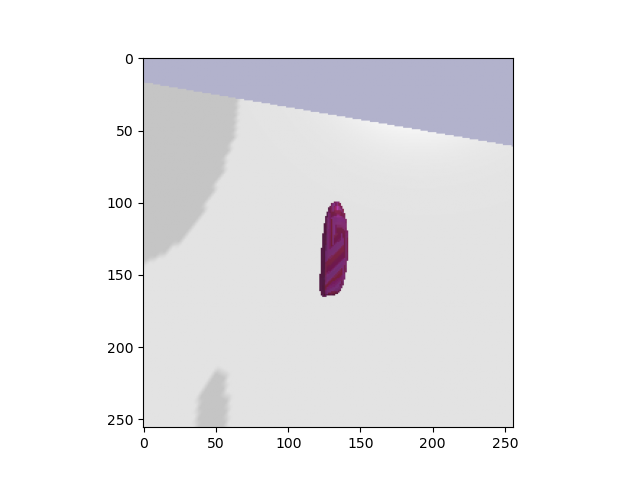v249b387_105: (315, 198, 366, 305)
